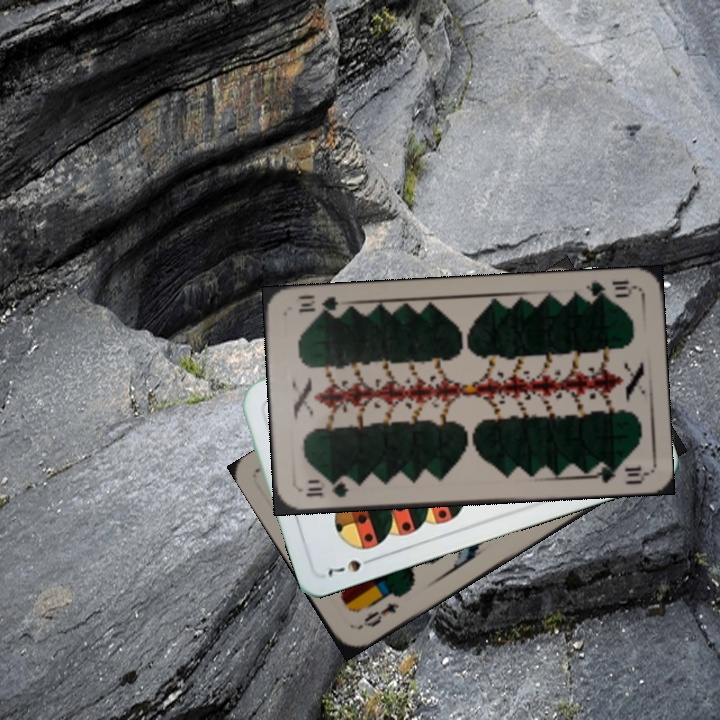EO: (355, 598, 402, 631)
G10: (578, 276, 637, 304), (301, 476, 351, 500)
S7: (324, 552, 379, 578)
